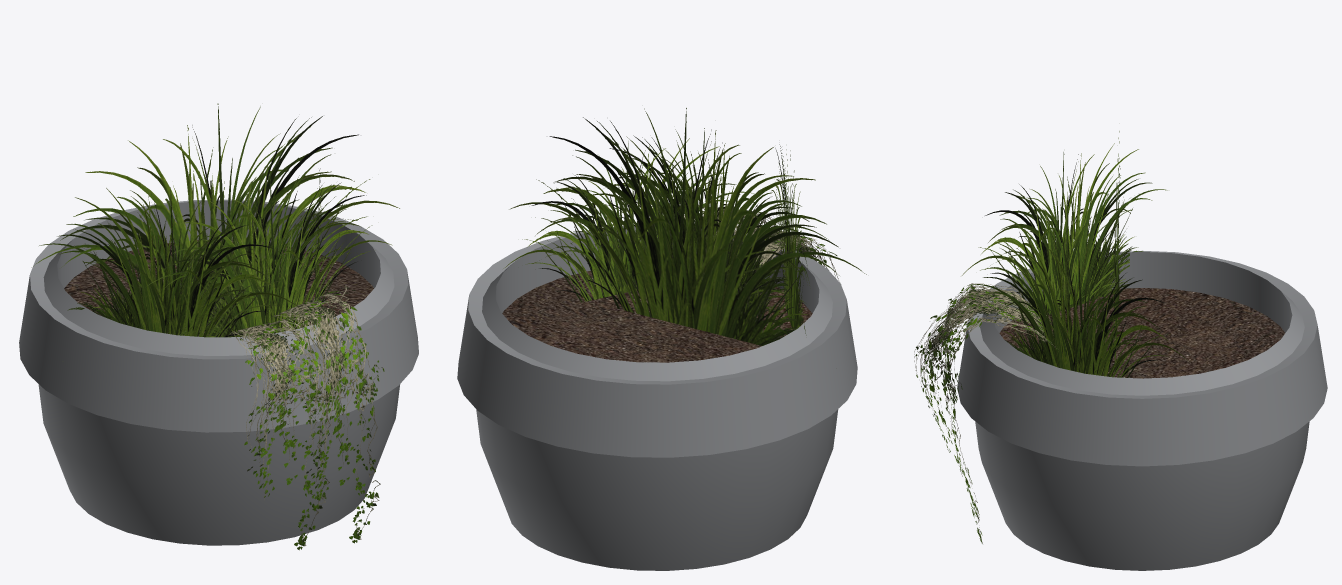
Rendered from kukkaruukku kasvi.fbx.
3 views of the same model, side by side, from view 1: azimuth 30°, elevation 25°; view 2: azimuth 150°, elevation 25°; view 3: azimuth 270°, elevation 25° (orthographic). The views are drawn at different scales.
Visible parts, largest first — view 1: kukkaruukku kasvi; view 2: kukkaruukku kasvi; view 3: kukkaruukku kasvi.
Part boxes in pixels (x1,y1,x2,y2): kukkaruukku kasvi: (19,103,418,550); kukkaruukku kasvi: (457,108,866,570); kukkaruukku kasvi: (914,131,1327,570).
Bounding box in the file's own units: 313 × 332 × 297.
